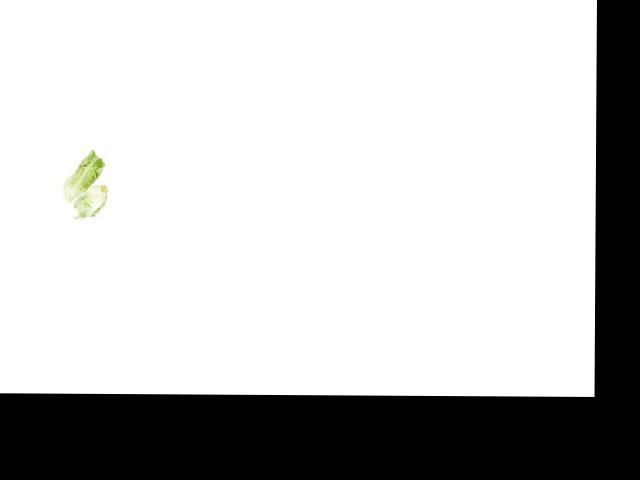lettuce: (61, 152, 116, 221)
